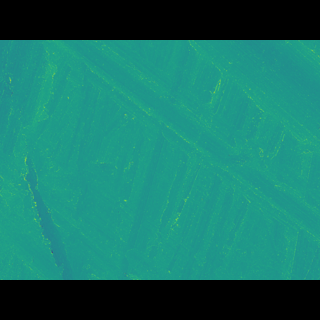Loch: (22, 71, 319, 224), (3, 116, 234, 250)
